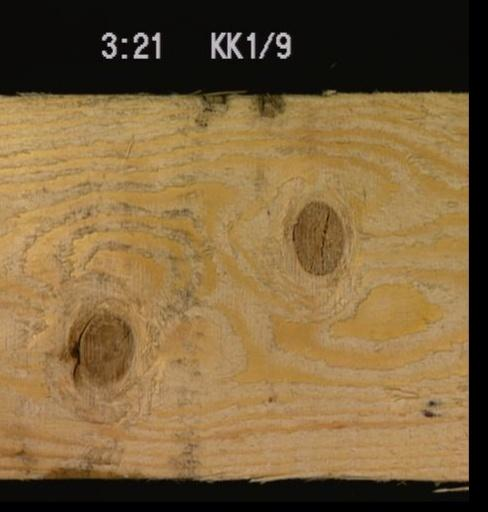dry_knot: (68, 303, 139, 393)
sound_knot: (287, 199, 346, 278)
wave: (43, 457, 100, 477)
